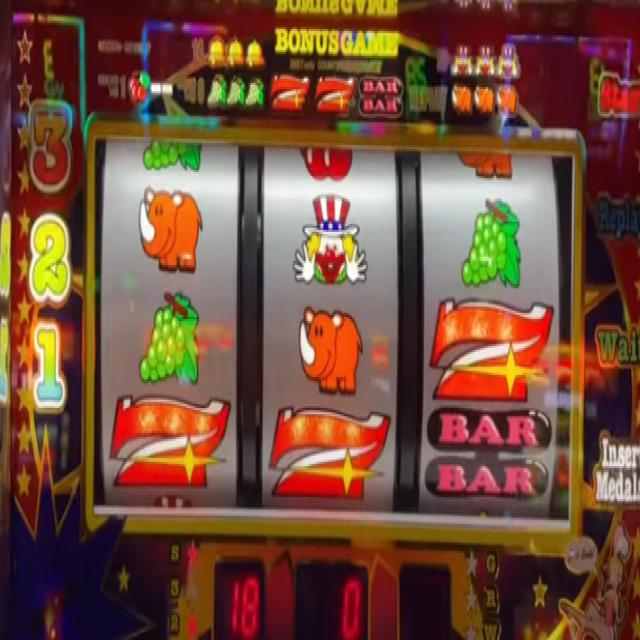bar: (422, 403, 550, 498), (358, 77, 404, 118)
bell: (207, 33, 227, 71), (245, 36, 264, 70), (228, 36, 243, 70)
cherry: (297, 140, 353, 182), (127, 70, 152, 104)
clown: (291, 193, 368, 289), (496, 41, 521, 80), (450, 44, 475, 78), (474, 44, 497, 78)
display: (95, 132, 572, 536)
elephant: (137, 182, 206, 276), (299, 303, 363, 397), (457, 156, 517, 183), (450, 85, 472, 119), (494, 85, 518, 115), (473, 85, 496, 115)
grape: (137, 286, 201, 383), (461, 196, 524, 292), (143, 135, 205, 176), (205, 73, 228, 112), (227, 74, 245, 110), (245, 78, 263, 112)
z: (429, 295, 554, 403), (109, 390, 230, 496), (270, 401, 391, 500), (315, 72, 356, 116), (270, 71, 308, 116)
